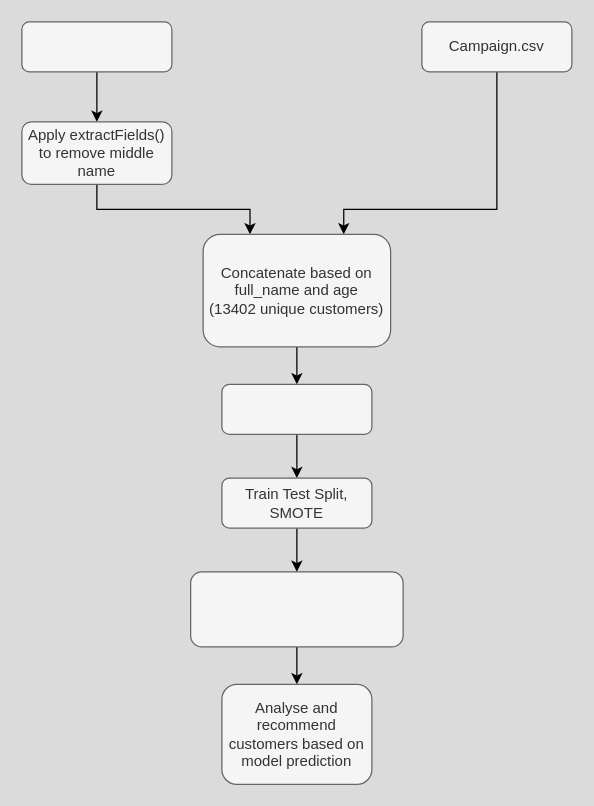
The diagram is 594 pixels wide and 806 high, and some of its shapes have lost their labels. The centre of each missing label's shape, as x and y in pixels:
Build Classification models to predict credited_account: [296,609]
Clean data: [296,408]
Mortgage.csv: [96,46]
